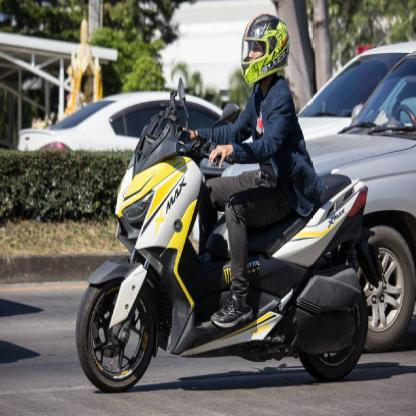Motorcycle: (71, 107, 373, 397)
